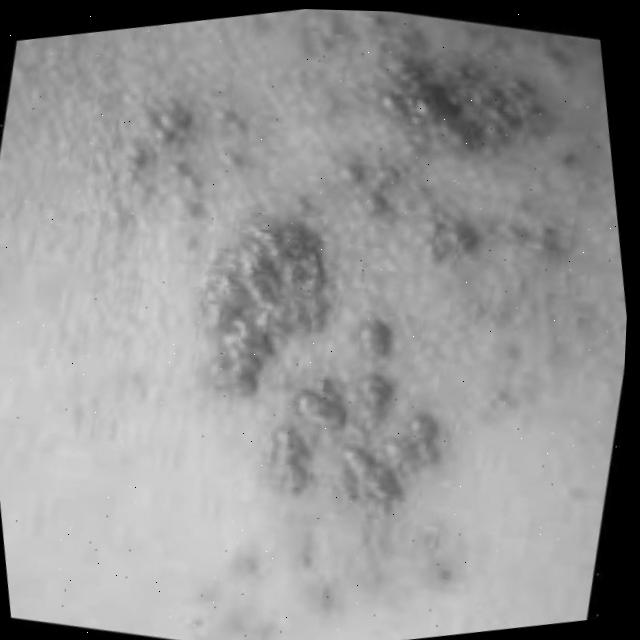Shingles: (120, 4, 589, 536)
